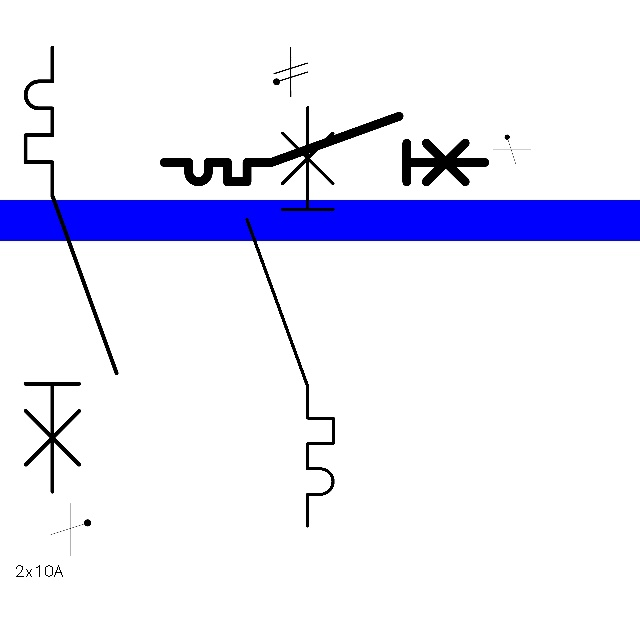interruptor_termomagnetico: (14, 36, 128, 503), (236, 96, 344, 536), (156, 108, 493, 190)
